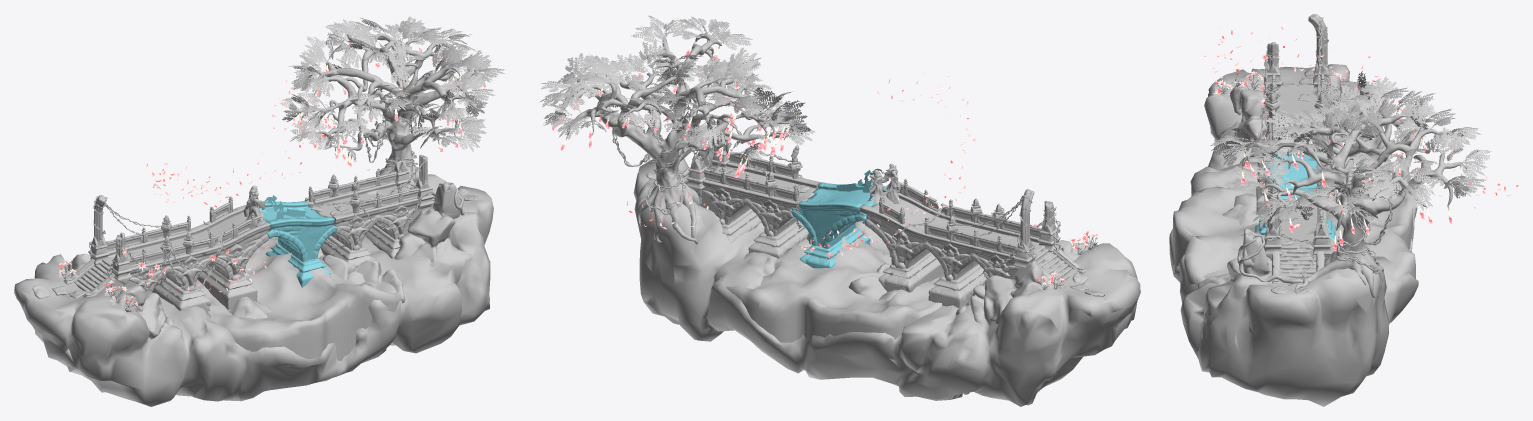
The model's file is Bridge_fairy_tale.fbx.
3 views of the same model, side by side, from view 1: azimuth 30°, elevation 25°; view 2: azimuth 150°, elevation 25°; view 3: azimuth 270°, elevation 25° (orthographic). The views are drawn at different scales.
Visible parts, largest first — view 1: terrain, bridge_destroyed, nature, water, phantom_bridge; view 2: terrain, bridge_destroyed, nature, water, phantom_bridge; view 3: terrain, nature, bridge_destroyed, water, phantom_bridge.
Boxes of the visible parts, x1,y1,x2,y2 form: terrain: (14, 33, 493, 406); bridge_destroyed: (63, 80, 455, 339); nature: (58, 16, 504, 312); water: (195, 236, 401, 360); phantom_bridge: (259, 195, 337, 287); terrain: (560, 33, 1140, 406); bridge_destroyed: (612, 96, 1088, 325); nature: (539, 15, 1098, 291); water: (719, 221, 944, 342); phantom_bridge: (791, 168, 886, 268); terrain: (1169, 64, 1466, 406); nature: (1202, 27, 1518, 251); bridge_destroyed: (1197, 14, 1392, 288); water: (1172, 174, 1415, 285); phantom_bridge: (1255, 135, 1335, 241).
Size of the model in its own units: 1937 by 3493 by 1830.
